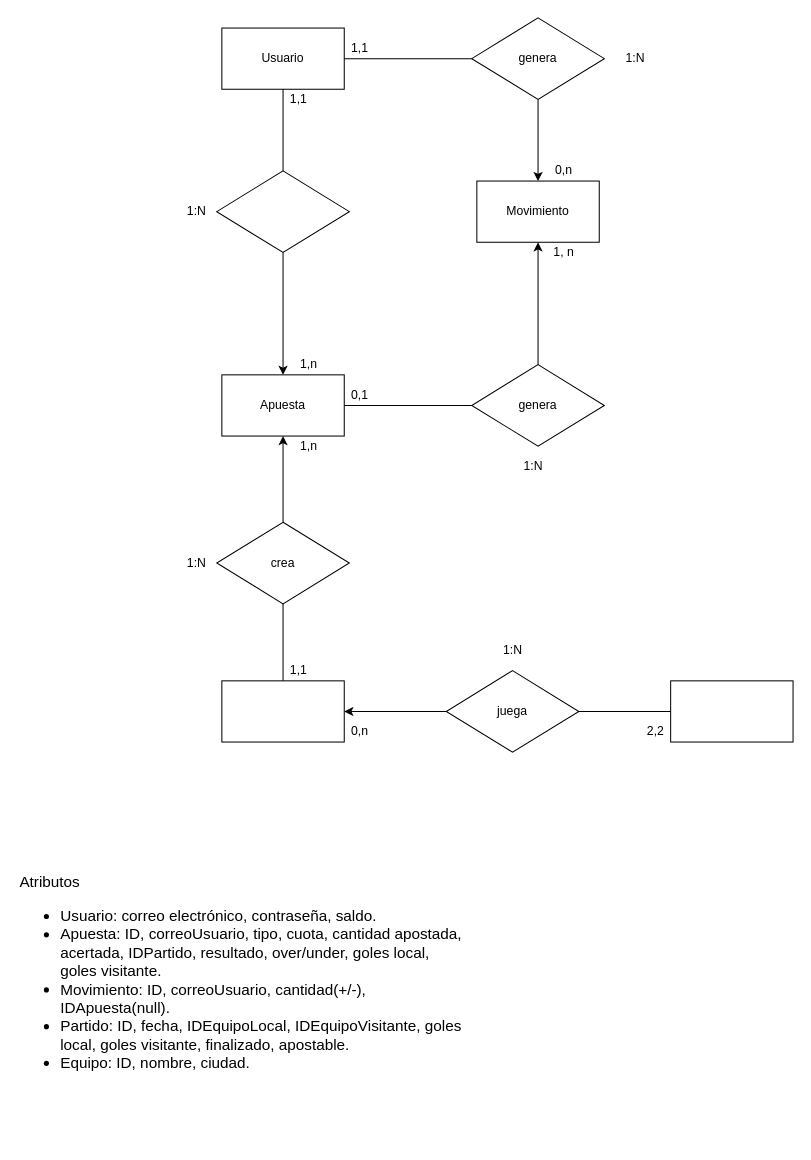
Image size: 811x1160. Some labels were removed from this diagram. The box of each missing label's shape, as (x1, y1, x2, y2) in pixels:
Equipo: (670, 680, 793, 742)
Partido: (221, 680, 344, 742)
realiza: (216, 170, 349, 252)
